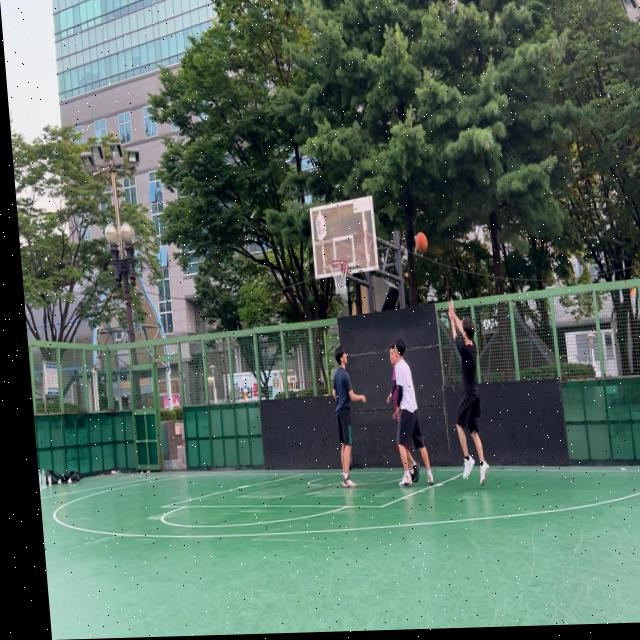basketball: (415, 231, 429, 254)
hoop: (328, 260, 351, 296)
